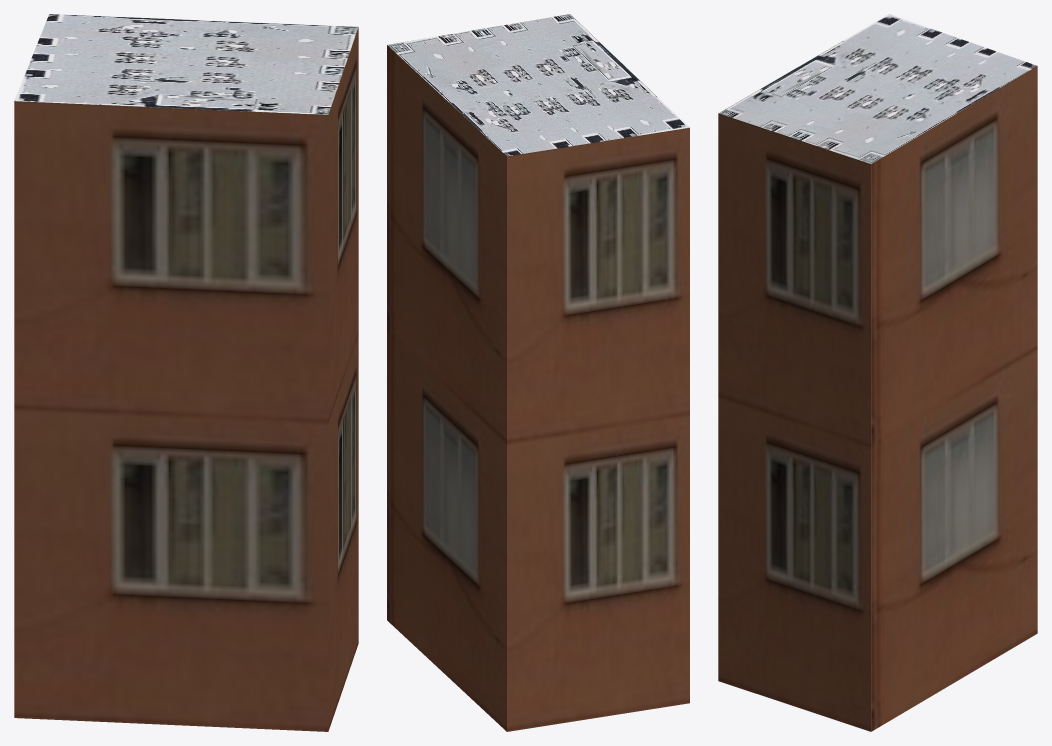
File: ResTex__3201.fbx
The picture shows the model from 3 angles, left to right: view 1: azimuth 30°, elevation 25°; view 2: azimuth 150°, elevation 25°; view 3: azimuth 270°, elevation 25°; orthographic projection. The views are drawn at different scales.
Parts seen in each view (by area): view 1: CityEngineMaterial_20_m, CityEngineMaterial_8_m; view 2: CityEngineMaterial_20_m, CityEngineMaterial_8_m; view 3: CityEngineMaterial_20_m, CityEngineMaterial_8_m.
Part boxes in pixels (<box>): CityEngineMaterial_20_m: <box>14,27,358,731</box>; CityEngineMaterial_8_m: <box>14,14,358,114</box>; CityEngineMaterial_20_m: <box>387,45,689,731</box>; CityEngineMaterial_8_m: <box>387,14,689,156</box>; CityEngineMaterial_20_m: <box>718,66,1037,731</box>; CityEngineMaterial_8_m: <box>719,14,1036,163</box>.
Bounding box in the file's own units: 3.4 × 6 × 3.06.
2 materials, 2 textured.
